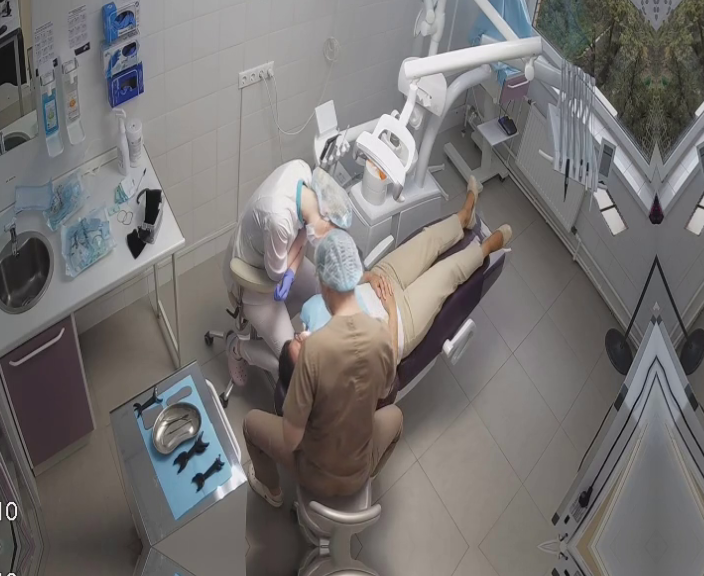Patient: (278, 176, 511, 399)
